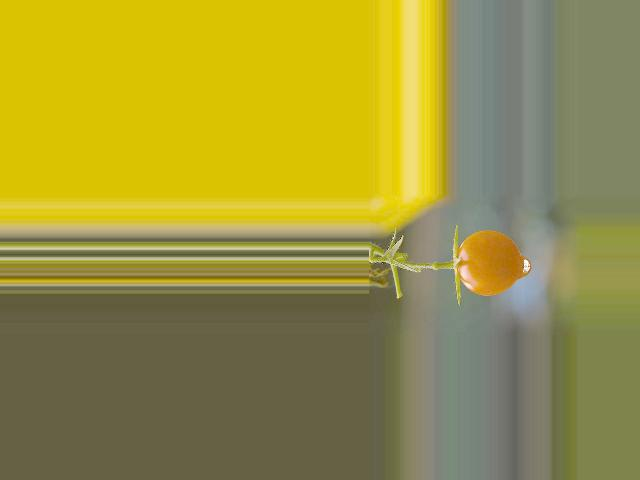tomato: (456, 231, 521, 296)
